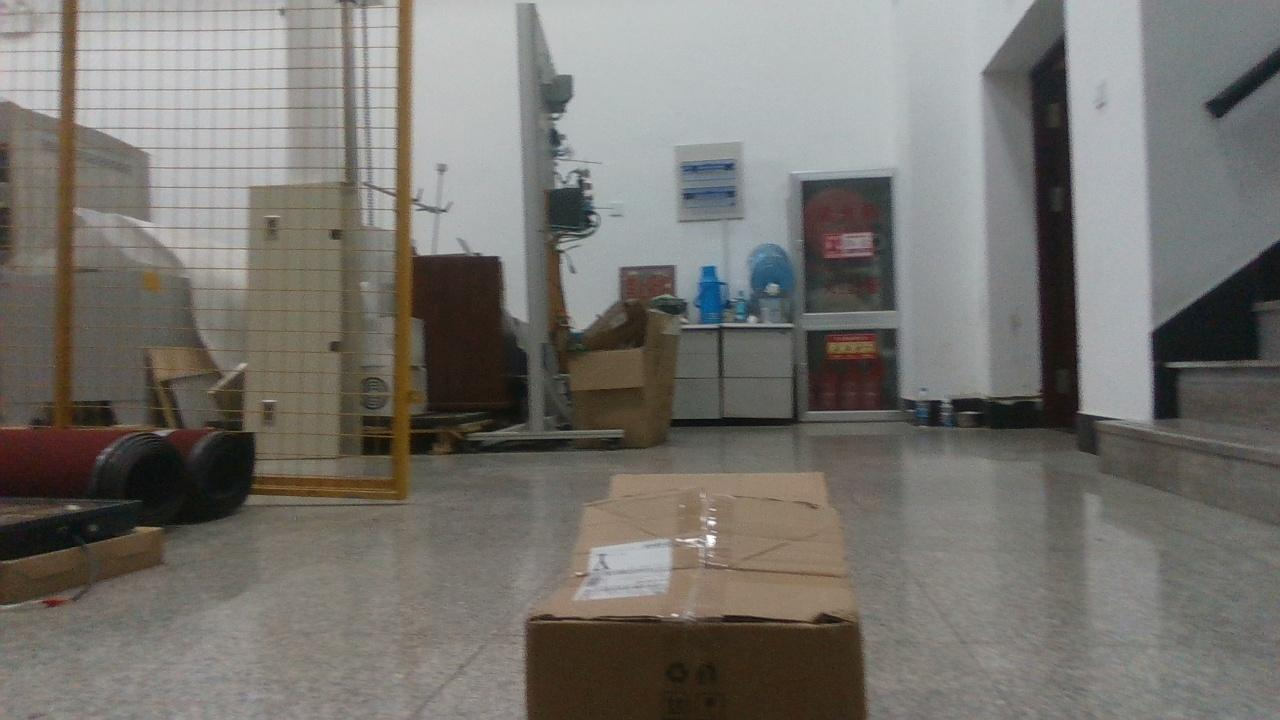box: (528, 472, 865, 719)
